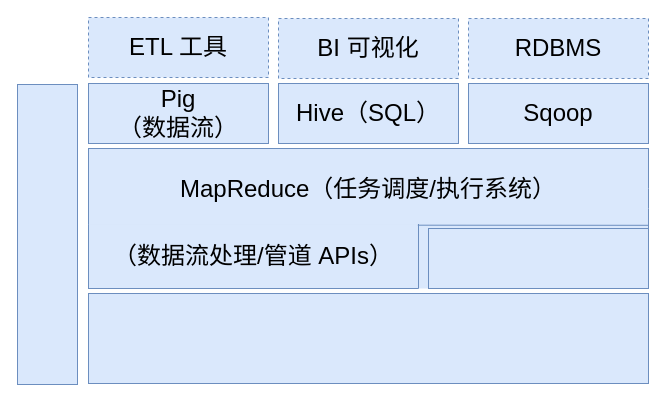
The diagram is 667 pixels wide and 402 high, and some of its shapes have lost their labels. The centre of each missing label's shape, as x and y in pixels:
"HBase （键值对存储）" belongs at point 538,258.
"YARN （协调）" belongs at point 47,234.
"分布式文件系统 HDFS （Hadoop Distributed File System）" belongs at point 368,338.
